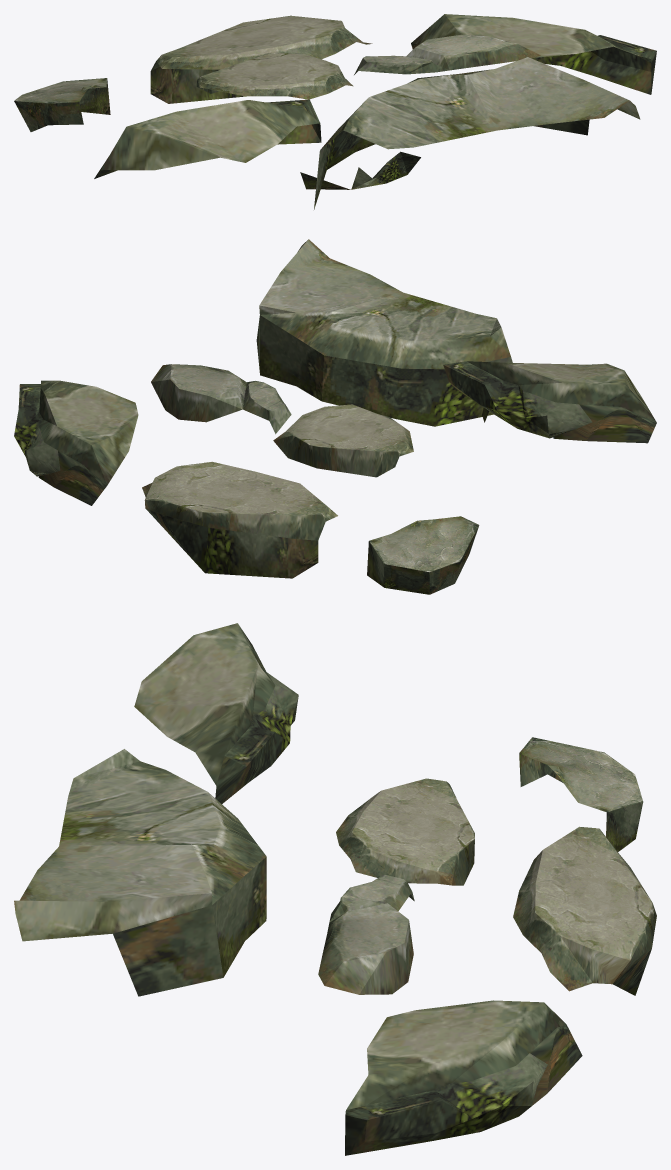
File: 7003_Item_shitou_02.FBX
3 renders of one model, top to bottom at view 1: azimuth 30°, elevation 25°; view 2: azimuth 150°, elevation 25°; view 3: azimuth 270°, elevation 25°, orthographic. The views are drawn at different scales.
Parts seen in each view (by area): view 1: 7003_Item_shitou_02; view 2: 7003_Item_shitou_02; view 3: 7003_Item_shitou_02.
Boxes of the visible parts, <box> form: 7003_Item_shitou_02: <box>14,14,656,209</box>; 7003_Item_shitou_02: <box>14,239,656,594</box>; 7003_Item_shitou_02: <box>14,623,656,1155</box>.
Bounding box in the file's own units: 747 × 529 × 177.
